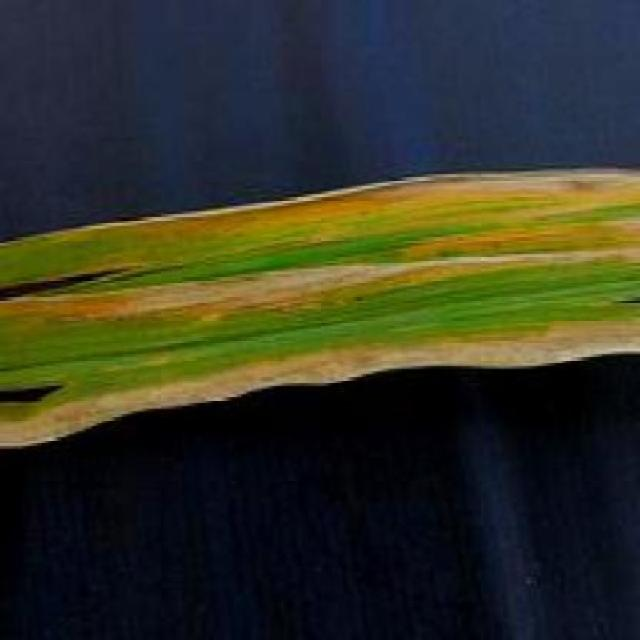Brown_Spot: (8, 209, 623, 357)
